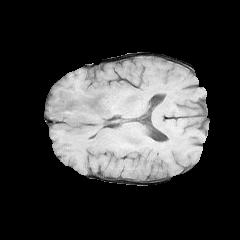glioma: (46, 90, 116, 135)
